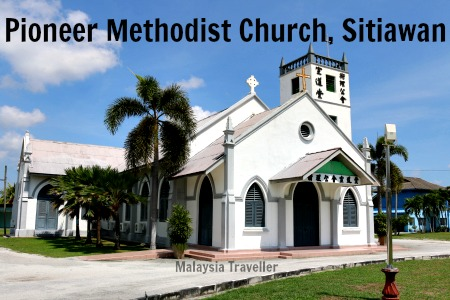Church: (18, 47, 364, 247)
